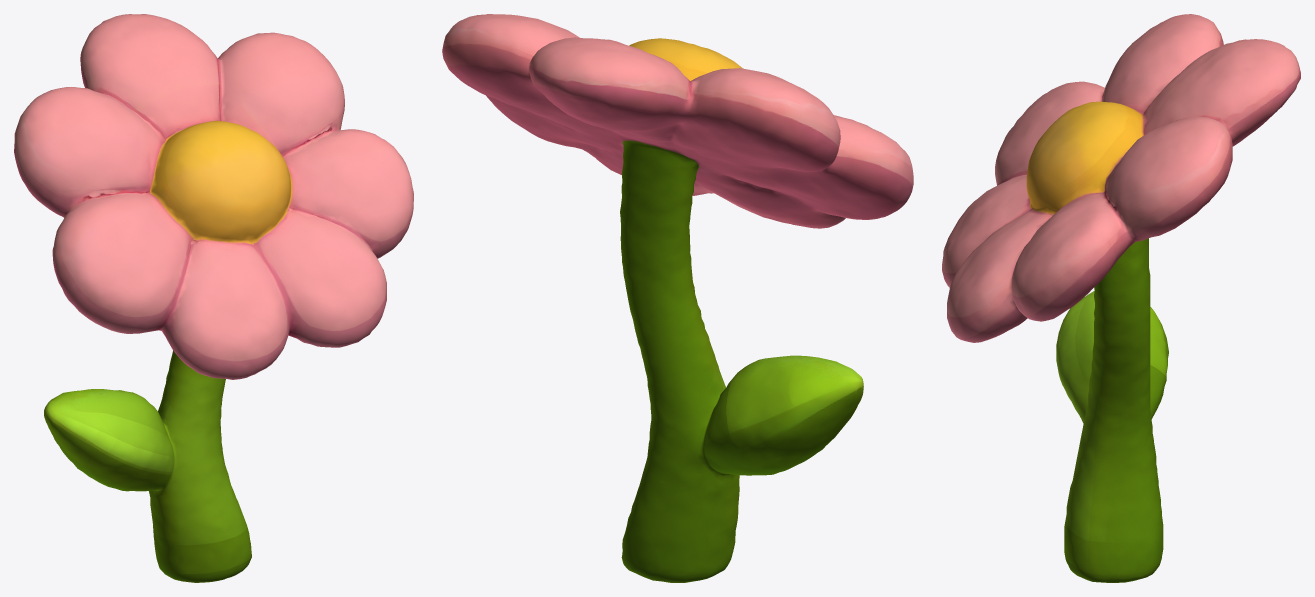
The model's file is flower.glb.
3 views of the same model, side by side, from view 1: azimuth 30°, elevation 25°; view 2: azimuth 150°, elevation 25°; view 3: azimuth 270°, elevation 25° (orthographic). The views are drawn at different scales.
Parts seen in each view (by area): view 1: Mesh_0.001; view 2: Mesh_0.001; view 3: Mesh_0.001.
Boxes of the visible parts, x1,y1,x2,y2 form: Mesh_0.001: (14, 14, 413, 582); Mesh_0.001: (442, 14, 913, 582); Mesh_0.001: (942, 14, 1300, 582).
Size of the model in its own units: 0.0894 by 0.12 by 0.0752.
1 material, 1 textured.
